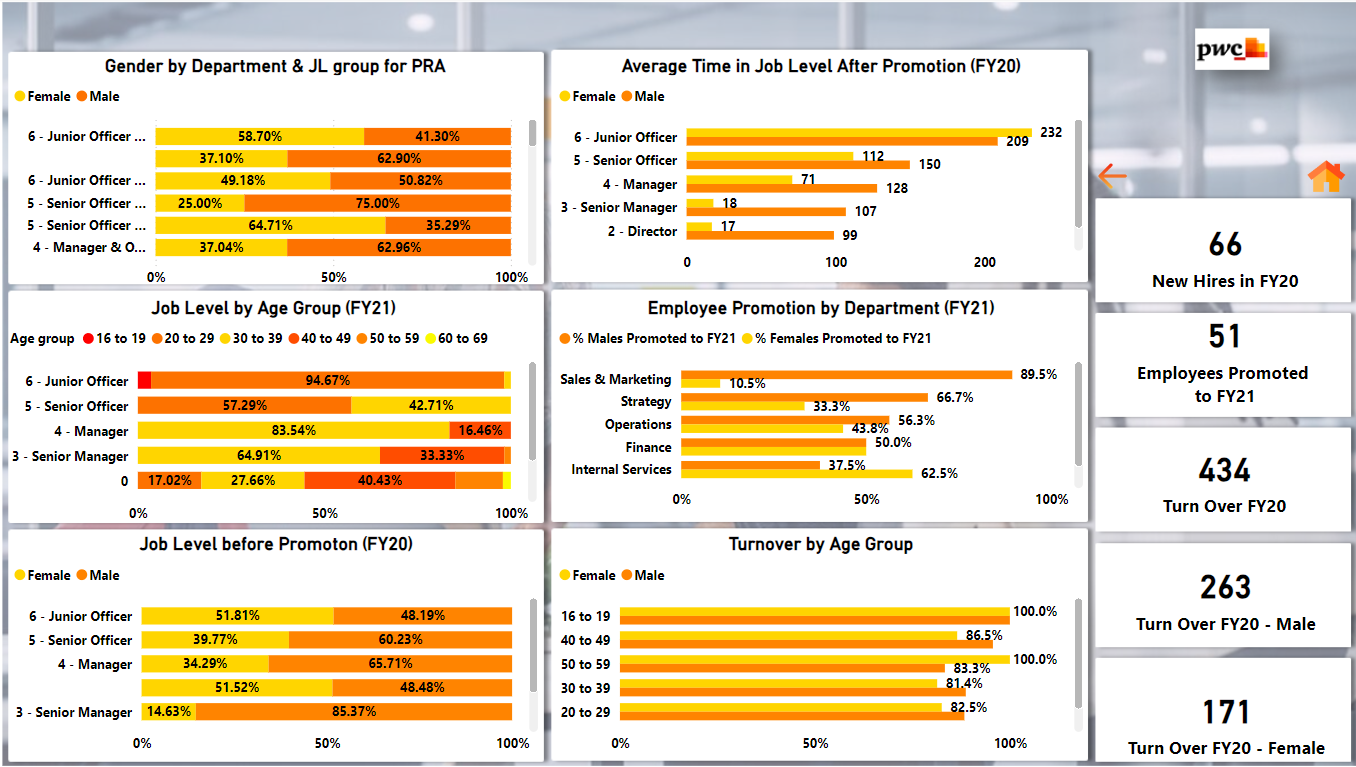

What the dashboard file says about the page in this screenshot:
{"tool":"powerbi","page":{"name":"Hiring Dashboard","canvas":[1280,720],"ordinal":2},"visuals":[{"type":"image","box":[10,0,1270,720],"z":0},{"type":"image","box":[1025,144.1,45.3,45.3],"z":1000},{"type":"image","box":[1224.4,144.2,45.3,45.3],"z":2000},{"type":"hundredPercentStackedBarChart","title":"Gender by Department & JL group for PRA","fields":{"Y":["CountNonNull(Pharma Group AG.Gender)"],"Series":["Pharma Group AG.Gender"],"Category":["Pharma Group AG.Department & JL group for PRA"]},"box":[20.9,53.5,496.5,225.6],"z":3000},{"type":"hundredPercentStackedBarChart","title":"Job Level by Age Group (FY21)","fields":{"Y":["CountNonNull(Pharma Group AG.Age group)"],"Series":["Pharma Group AG.Age group"],"Category":["Pharma Group AG.Job Level after FY21 promotions"]},"box":[17.4,279.1,500,219.8],"z":4000},{"type":"clusteredBarChart","title":"Average Time in Job Level After Promotion (FY20)","fields":{"Category":["Pharma Group AG.Job Level after FY20 promotions"],"Series":["Pharma Group AG.Gender"],"Y":["Sum(Pharma Group AG.Time in Job Level @01.07.2020)"]},"box":[527.9,53.5,497.7,211.6],"z":5000},{"type":"clusteredBarChart","title":"Employee Promotion by Department (FY21)","fields":{"Category":["Pharma Group AG.Department @01.07.2020"],"Y":["main_measures.% Males Promoted to FY21","main_measures.% Females Promoted to FY21"]},"box":[527.9,279.1,497.7,207],"z":6000},{"type":"hundredPercentStackedBarChart","title":"Job Level before Promoton (FY20)","fields":{"Series":["Pharma Group AG.Gender"],"Category":["Pharma Group AG.Job Level before FY20 promotions"],"Y":["CountNonNull(Pharma Group AG.Job Level before FY20 promotions)"]},"box":[20.9,498.8,497.7,214],"z":7000},{"type":"clusteredBarChart","title":"Turnover by Age Group","fields":{"Series":["Pharma Group AG.Gender"],"Y":["main_measures.% Turn Over FY20"],"Category":["Pharma Group AG.Age group"]},"box":[527.9,498.8,497.7,214],"z":8000},{"type":"card","fields":{"Values":["main_measures.Turn Over FY20"]},"box":[1082.6,409.3,139.5,77.9],"z":9000},{"type":"card","fields":{"Values":["main_measures.New Hires in FY20"]},"box":[1070.9,197.7,164,81.4],"z":10000},{"type":"card","fields":{"Values":["main_measures.Employees Promoted to FY21"]},"box":[1062.8,238.4,180.2,170.9],"z":11000},{"type":"card","fields":{"Values":["main_measures.Turn Over FY20 - Male"]},"box":[1057,517.4,193,80.2],"z":12000},{"type":"card","fields":{"Values":["main_measures.Turn Over FY20 - Female"]},"box":[1050,633.7,208.1,79.1],"z":13000}]}

Visuals, with their boxes in screenshot pixels (x1, y1, x2, y2), scaled from the page's 1280x720 canvas onto the 1356x767 screenshot:
image: box=[11, 0, 1355, 766]
image: box=[1086, 154, 1134, 202]
image: box=[1297, 154, 1345, 202]
"Gender by Department & JL group for PRA" hundredPercentStackedBarChart: box=[22, 57, 548, 297]
"Job Level by Age Group (FY21)" hundredPercentStackedBarChart: box=[18, 297, 548, 531]
"Average Time in Job Level After Promotion (FY20)" clusteredBarChart: box=[559, 57, 1086, 282]
"Employee Promotion by Department (FY21)" clusteredBarChart: box=[559, 297, 1086, 518]
"Job Level before Promoton (FY20)" hundredPercentStackedBarChart: box=[22, 531, 549, 759]
"Turnover by Age Group" clusteredBarChart: box=[559, 531, 1086, 759]
card - main_measures.Turn Over FY20: box=[1147, 436, 1295, 519]
card - main_measures.New Hires in FY20: box=[1134, 211, 1308, 297]
card - main_measures.Employees Promoted to FY21: box=[1126, 254, 1317, 436]
card - main_measures.Turn Over FY20 - Male: box=[1120, 551, 1324, 637]
card - main_measures.Turn Over FY20 - Female: box=[1112, 675, 1333, 759]
